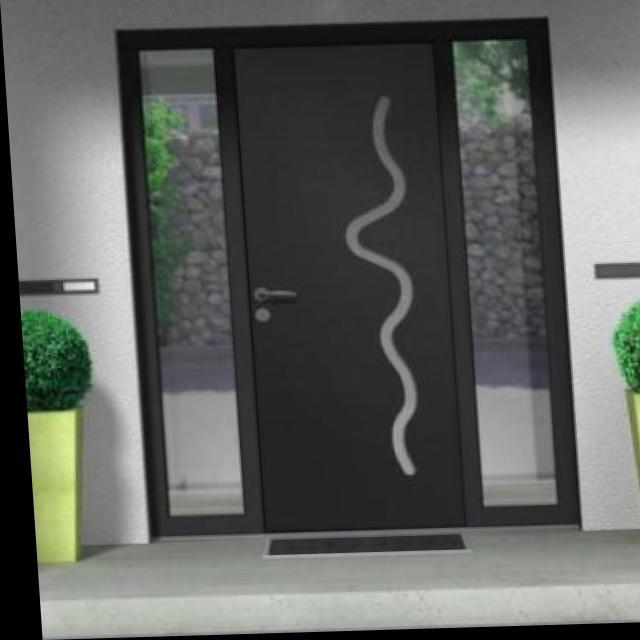door_handle: (247, 285, 299, 307)
